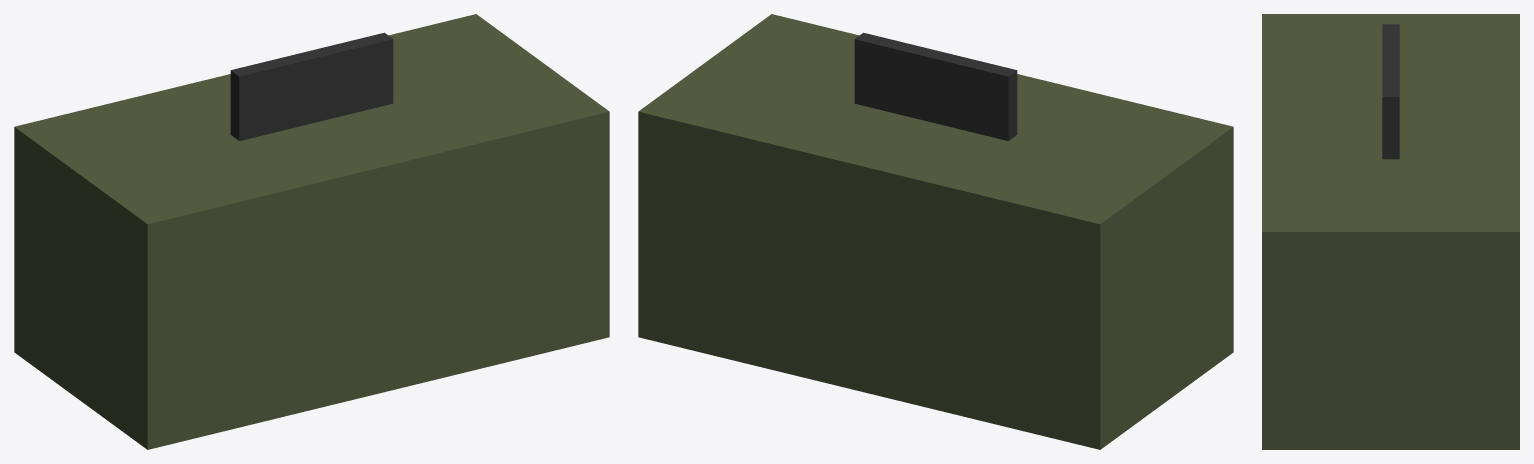
File: prop_bag.glb
The picture shows the model from 3 angles, left to right: view 1: azimuth 30°, elevation 25°; view 2: azimuth 150°, elevation 25°; view 3: azimuth 270°, elevation 25°; orthographic projection. The views are drawn at different scales.
Parts seen in each view (by area): view 1: prop_bag-col; view 2: prop_bag-col; view 3: prop_bag-col.
Boxes of the visible parts, left/top/right/bottom form: prop_bag-col: left=14, top=14, right=609, bottom=449; prop_bag-col: left=638, top=14, right=1233, bottom=449; prop_bag-col: left=1262, top=14, right=1519, bottom=449.
Bounding box in the file's own units: 0.6 × 0.36 × 0.3.
